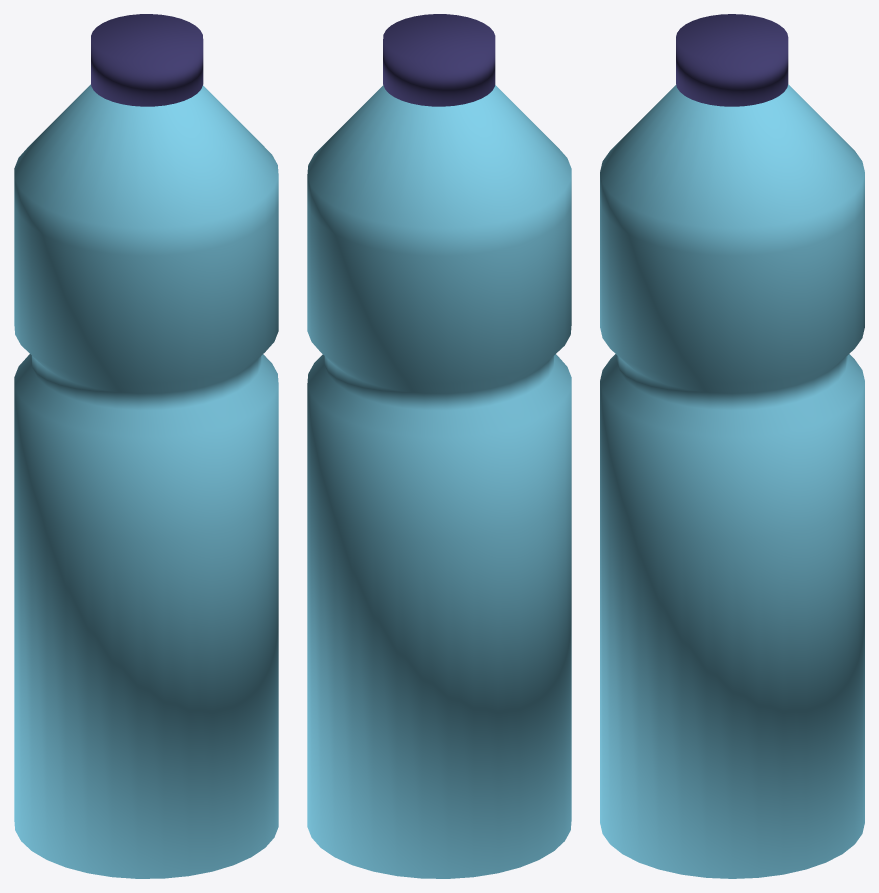
File: Flasche.fbx
The picture shows the model from 3 angles, left to right: view 1: azimuth 30°, elevation 25°; view 2: azimuth 150°, elevation 25°; view 3: azimuth 270°, elevation 25°; orthographic projection.
Parts seen in each view (by area): view 1: Flasche; view 2: Flasche; view 3: Flasche.
Part boxes in pixels (x1,y1,x2,y2): Flasche: (14, 14, 278, 878); Flasche: (307, 14, 571, 878); Flasche: (600, 14, 864, 878).
Size of the model in its own units: 10.96 by 35.85 by 10.96.
